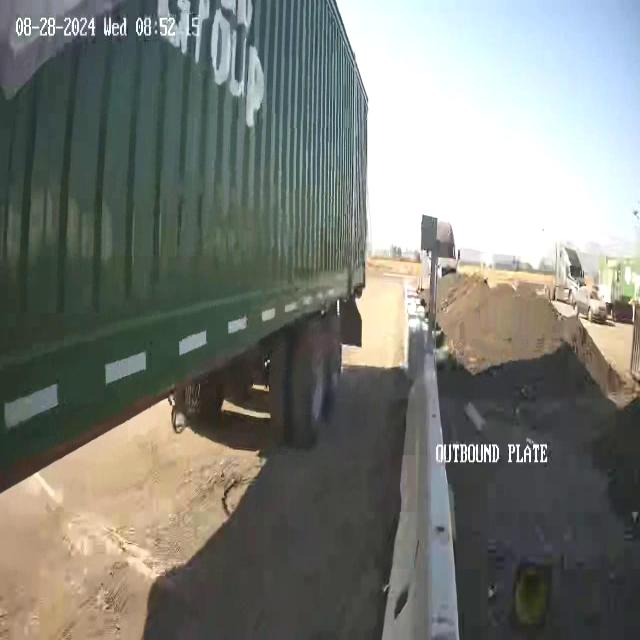CONTAINER: (0, 5, 373, 495)
